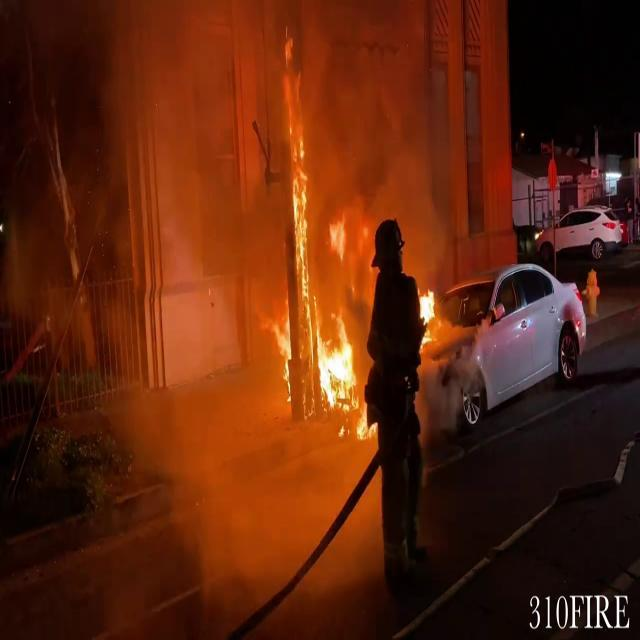Fire: (272, 43, 368, 430), (416, 278, 440, 340)
